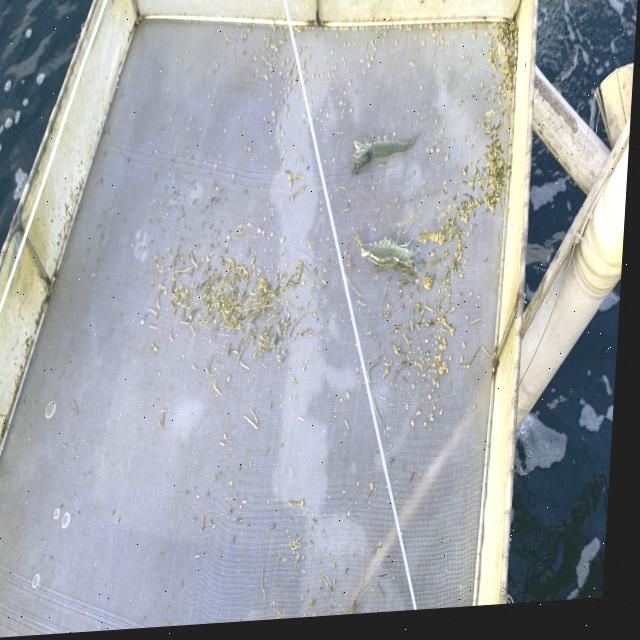Shrimp feeds: (447, 159, 453, 168), (303, 63, 308, 73), (286, 109, 292, 117), (283, 240, 289, 247), (371, 44, 376, 52), (313, 76, 317, 85), (273, 114, 278, 121), (307, 369, 311, 377), (368, 66, 372, 74), (295, 77, 299, 85), (299, 49, 303, 57), (349, 85, 354, 91), (308, 58, 313, 64), (279, 128, 283, 135), (446, 46, 451, 51), (321, 77, 326, 82), (289, 90, 294, 95), (279, 142, 284, 147), (67, 446, 73, 450), (352, 397, 355, 404), (266, 78, 269, 85)
